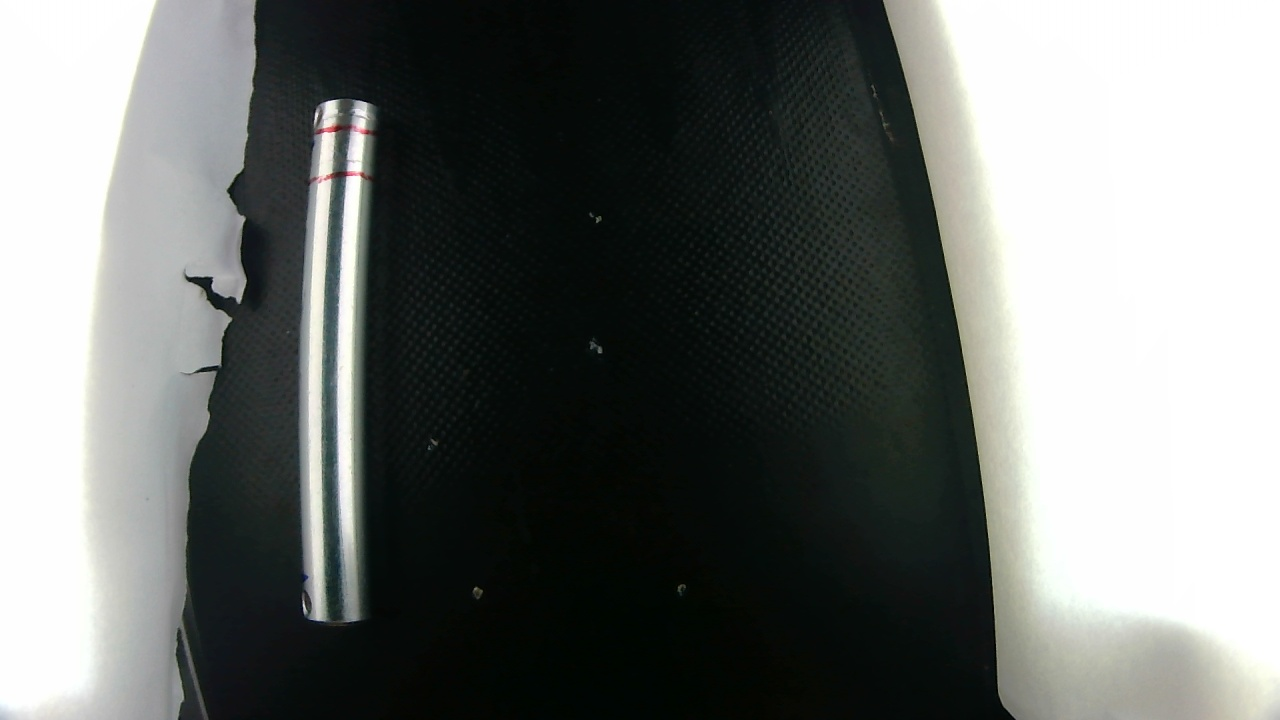odlinemark_pin: (313, 96, 384, 125)
